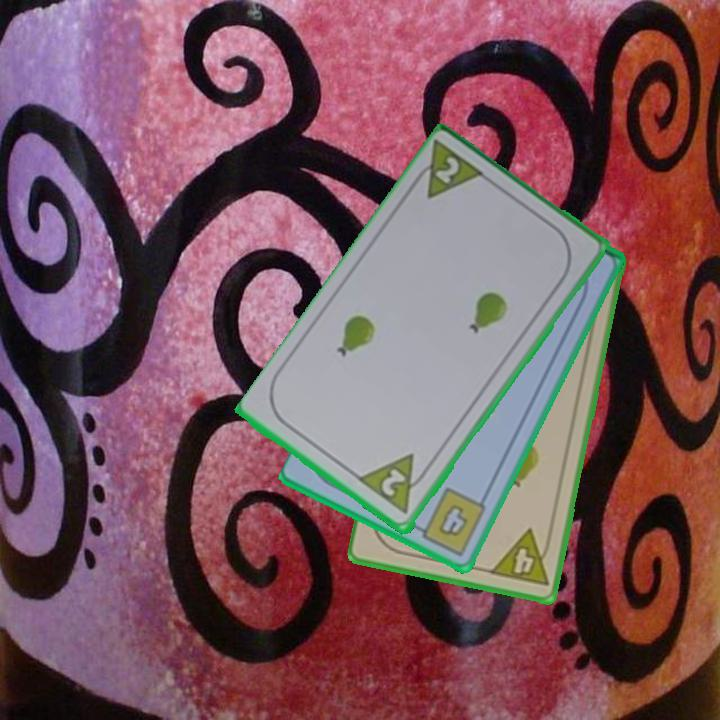2p: (406, 138, 490, 203), (356, 450, 434, 518)
4b: (410, 484, 490, 559)
4p: (486, 525, 556, 589)
